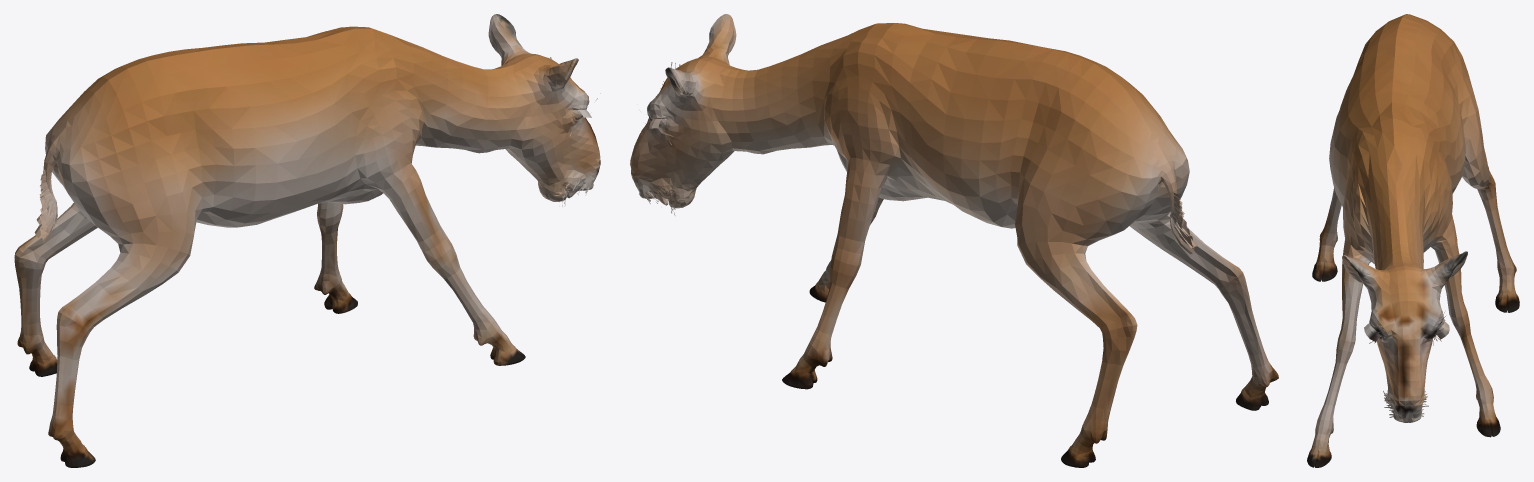
Rendered from saiga.gt.glb.
3 renders of one model, left to right at view 1: azimuth 30°, elevation 25°; view 2: azimuth 150°, elevation 25°; view 3: azimuth 270°, elevation 25°, orthographic. The views are drawn at different scales.
Visible parts, largest first — view 1: root; view 2: root; view 3: root.
Part boxes in pixels (<box>): root: <box>14,14,600,467</box>; root: <box>630,14,1278,467</box>; root: <box>1307,14,1519,467</box>.
Size of the model in its own units: 0.6746 by 0.3734 by 0.2332.
Materials: 1 (1 with a texture image).
